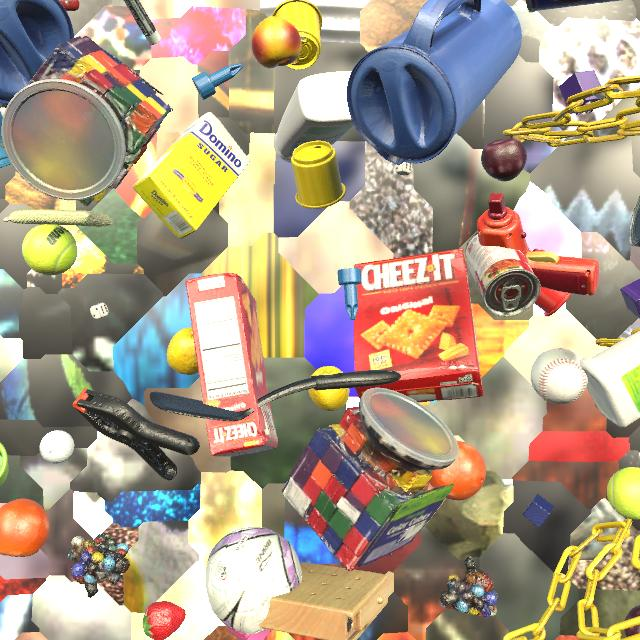ycb_002_master_chef_can: (526, 0, 621, 12)
ycb_003_cracker_box: (353, 248, 484, 403), (185, 273, 278, 457)
ycb_004_sugar_box: (132, 112, 250, 239)
ycb_005_tomato_soup_can: (465, 232, 541, 316)
ycb_007_tuna_fish_can: (629, 196, 640, 247)
ycb_012_strawberry: (142, 601, 186, 640)
ycb_014_lemon: (308, 366, 349, 411), (167, 327, 198, 375)
ycb_015_peach: (251, 16, 301, 68)
ycb_017_orange: (429, 441, 486, 500), (0, 499, 50, 557)
ycb_018_plum: (481, 138, 527, 181), (624, 605, 640, 637)
